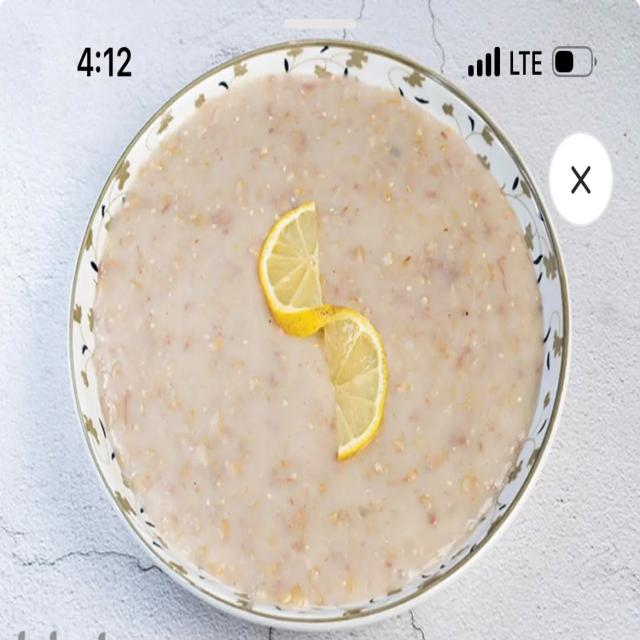Harees: (81, 62, 554, 616)
